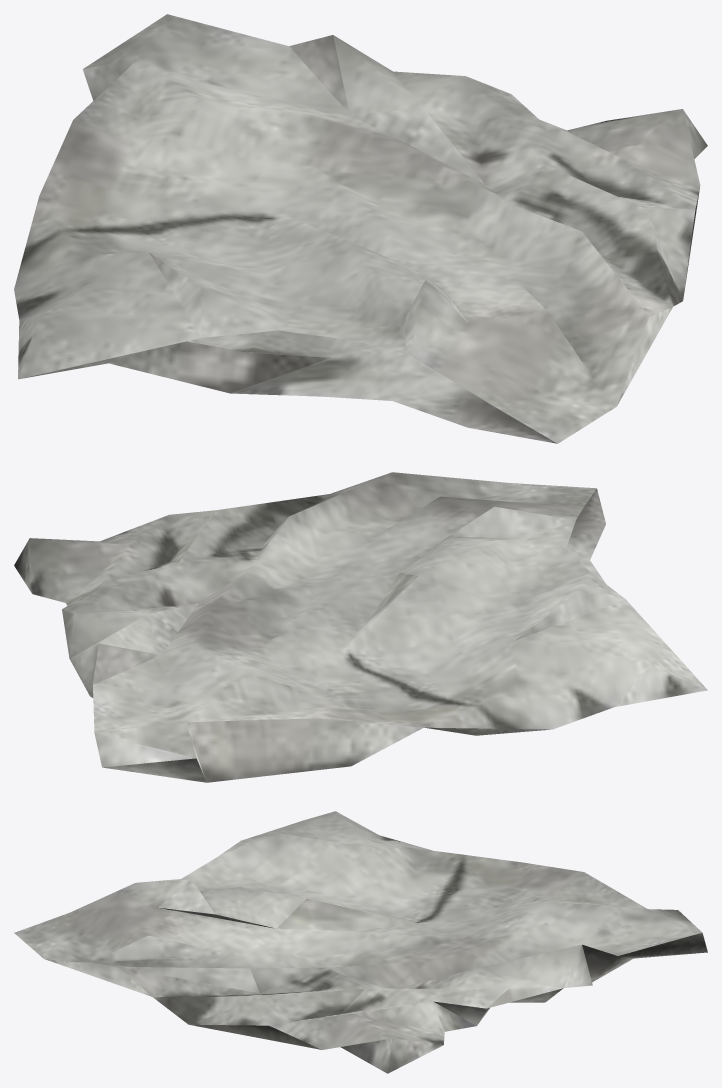
The model's file is rag_pillowcase_2_lod1_web.glb.
The picture shows the model from 3 angles, top to bottom: view 1: azimuth 30°, elevation 25°; view 2: azimuth 150°, elevation 25°; view 3: azimuth 270°, elevation 25°; orthographic projection. The views are drawn at different scales.
Parts seen in each view (by area): view 1: rag_pillowcase_2_Cloth; view 2: rag_pillowcase_2_Cloth; view 3: rag_pillowcase_2_Cloth.
Boxes of the visible parts, x1,y1,x2,y2 form: rag_pillowcase_2_Cloth: [14, 14, 707, 443]; rag_pillowcase_2_Cloth: [14, 472, 707, 782]; rag_pillowcase_2_Cloth: [14, 811, 707, 1073].
Bounding box in the file's own units: 0.6365 × 0.0721 × 0.7239.
Materials: 1 (1 with a texture image).
